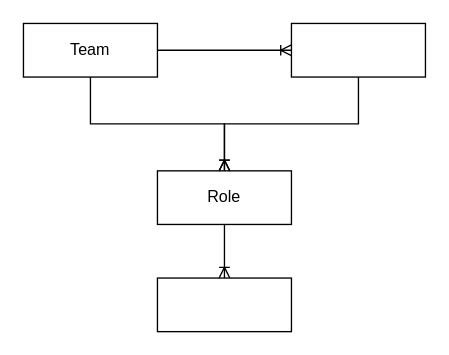
The diagram is 449 pixels wide and 355 high, and some of its shapes have lost their labels. The centre of each missing label's shape, as x and y in pixels:
Permission: (x=223, y=304)
User: (x=357, y=49)
